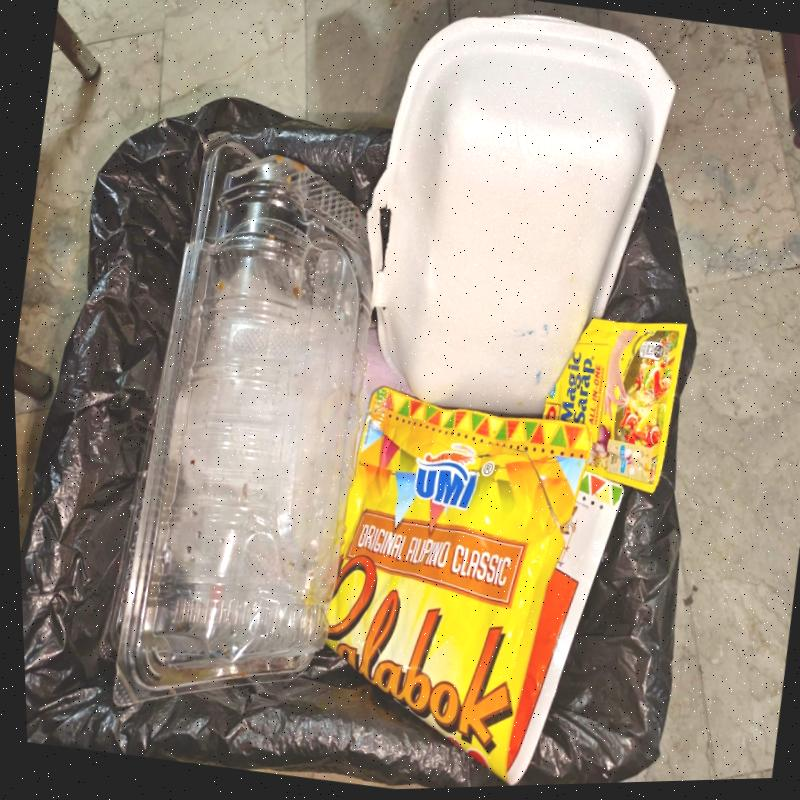food wrapper: (325, 387, 623, 786)
plastic container: (112, 140, 372, 710)
plastic sachet: (542, 319, 686, 494)
styrofoam containers: (364, 15, 676, 420)
